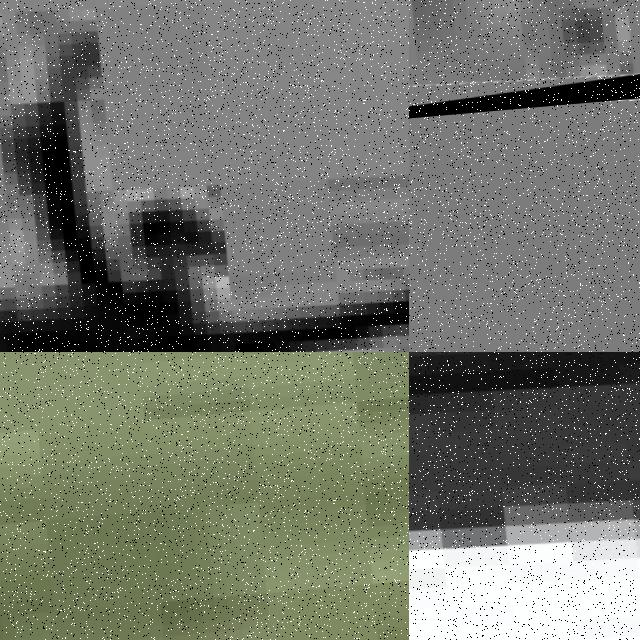drone: (0, 0, 409, 352), (409, 352, 640, 640), (409, 0, 640, 140)
